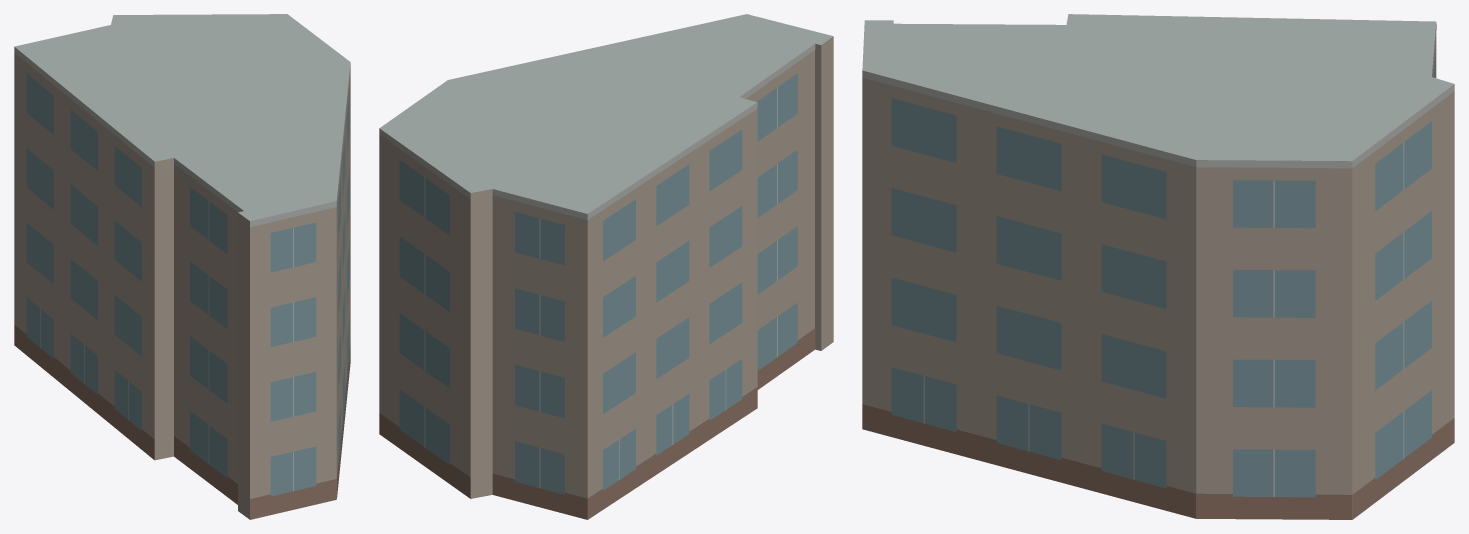
The model's file is survey-upis-32516499.glb.
3 views of the same model, side by side, from view 1: azimuth 30°, elevation 25°; view 2: azimuth 150°, elevation 25°; view 3: azimuth 270°, elevation 25° (orthographic). The views are drawn at different scales.
Parts seen in each view (by area): view 1: survey-upis-32516499.tmp; view 2: survey-upis-32516499.tmp; view 3: survey-upis-32516499.tmp.
Part boxes in pixels (box(x1,y1,x2,y2)): survey-upis-32516499.tmp: box(14, 14, 350, 519); survey-upis-32516499.tmp: box(379, 14, 833, 519); survey-upis-32516499.tmp: box(862, 14, 1454, 519).
Size of the model in its own units: 10.74 by 12.2 by 18.27.
